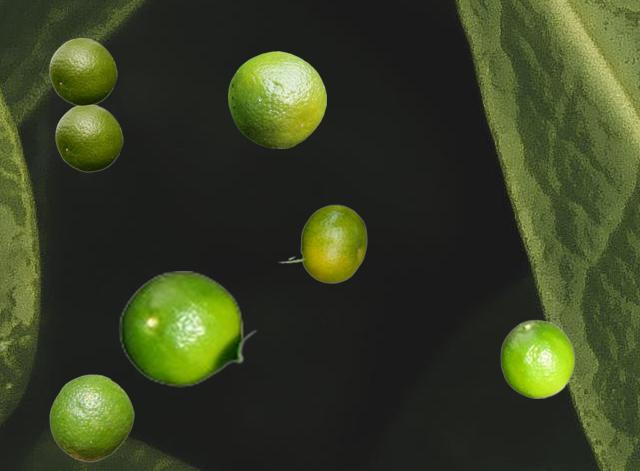calamansi: (118, 271, 257, 386), (228, 51, 325, 147), (49, 374, 133, 461), (278, 204, 366, 282), (500, 319, 574, 397), (49, 37, 116, 105), (55, 105, 122, 171)
